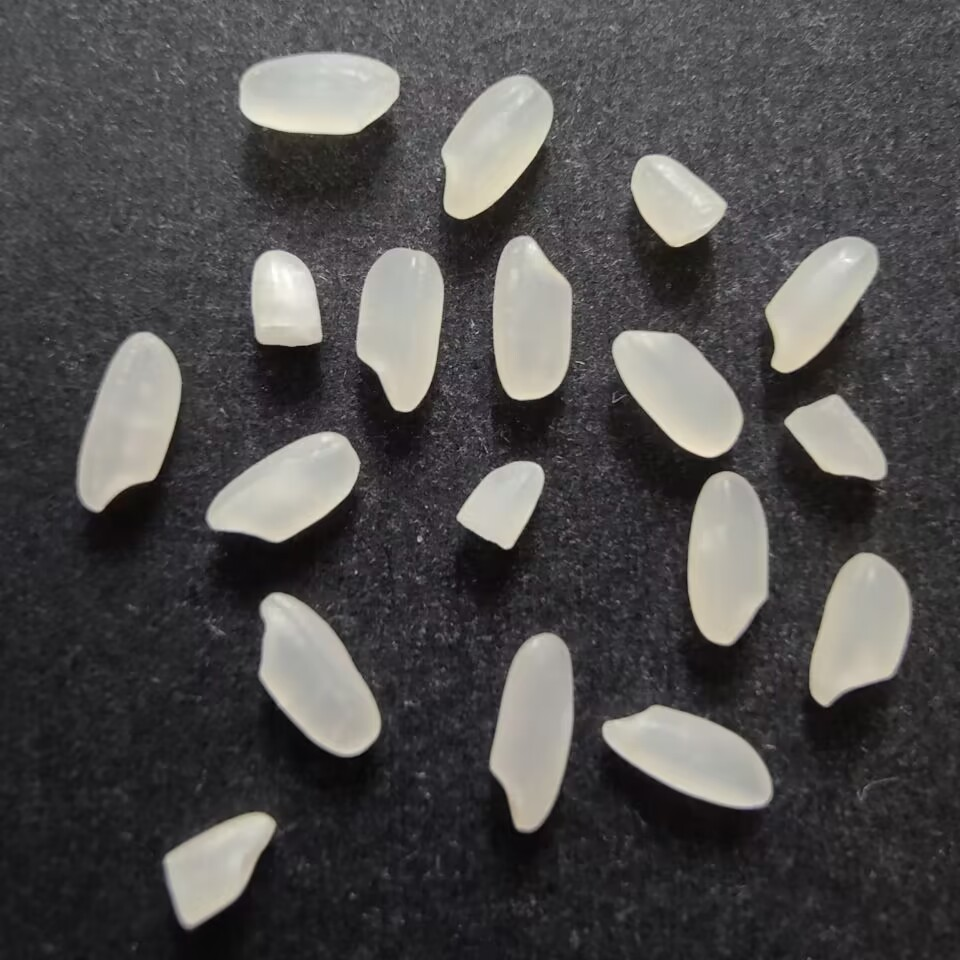broken: (157, 810, 276, 936), (779, 391, 891, 486), (628, 152, 731, 253), (244, 246, 326, 353), (453, 456, 547, 549)
rice: (250, 591, 383, 760), (72, 328, 185, 516), (483, 627, 578, 839), (598, 708, 780, 813), (608, 326, 748, 462), (199, 428, 363, 544), (433, 74, 556, 222), (807, 547, 919, 708), (759, 233, 883, 378), (485, 230, 580, 405), (353, 245, 448, 417), (683, 467, 772, 650), (232, 48, 401, 137)
